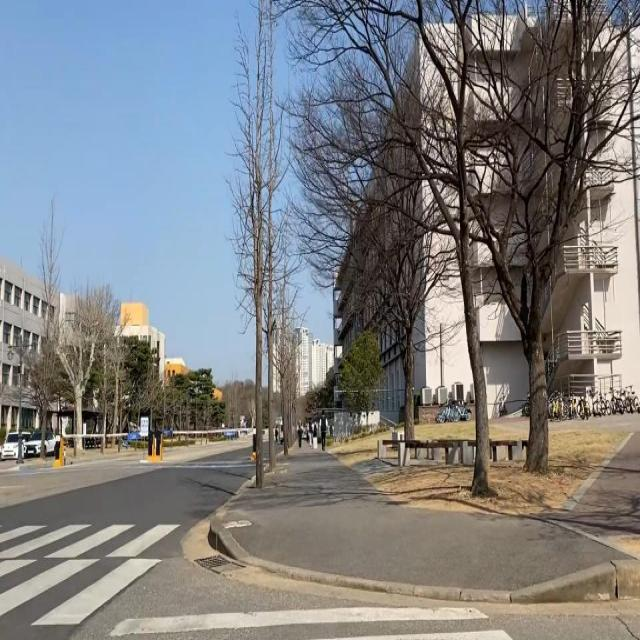sidewalk: (211, 428, 640, 599), (65, 448, 144, 459), (0, 457, 55, 470)
